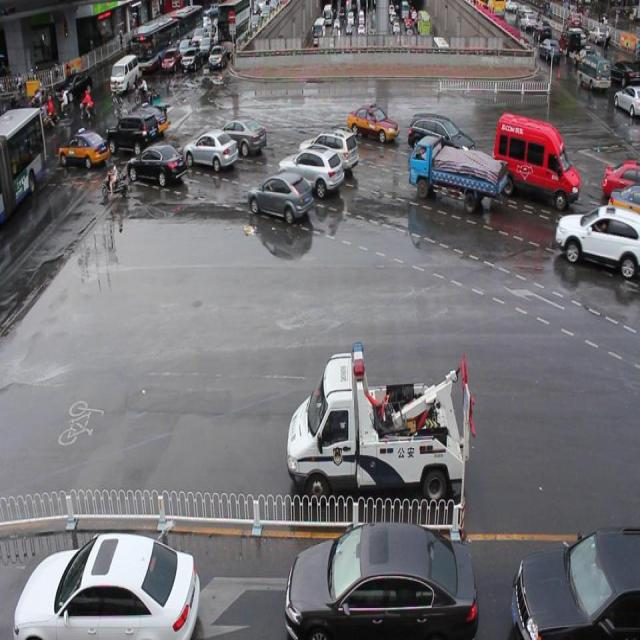bus: (288, 335, 476, 505), (409, 136, 505, 211)
car: (288, 520, 476, 640), (14, 528, 198, 640), (510, 530, 640, 640), (555, 204, 640, 280), (408, 108, 474, 160), (279, 145, 342, 198), (248, 173, 312, 222), (298, 128, 356, 174), (127, 142, 186, 186), (184, 129, 239, 171), (210, 116, 267, 154), (348, 100, 398, 136), (603, 154, 640, 197), (608, 180, 640, 227)
truck: (492, 107, 580, 202)
